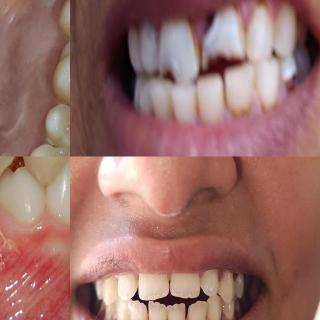cavities: (195, 0, 225, 67), (283, 59, 301, 102)
maligned: (138, 266, 170, 304), (170, 268, 199, 304), (116, 268, 140, 302), (199, 268, 223, 296), (187, 297, 208, 320), (127, 299, 148, 320), (148, 300, 168, 320), (167, 300, 185, 320)
plaque: (38, 98, 68, 154)
stains: (221, 69, 256, 123), (178, 11, 198, 69), (257, 87, 279, 129), (187, 83, 204, 118), (184, 309, 193, 320), (144, 308, 152, 320), (160, 313, 169, 320)
